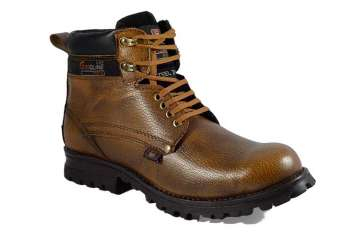Footwear: (51, 7, 319, 222)
